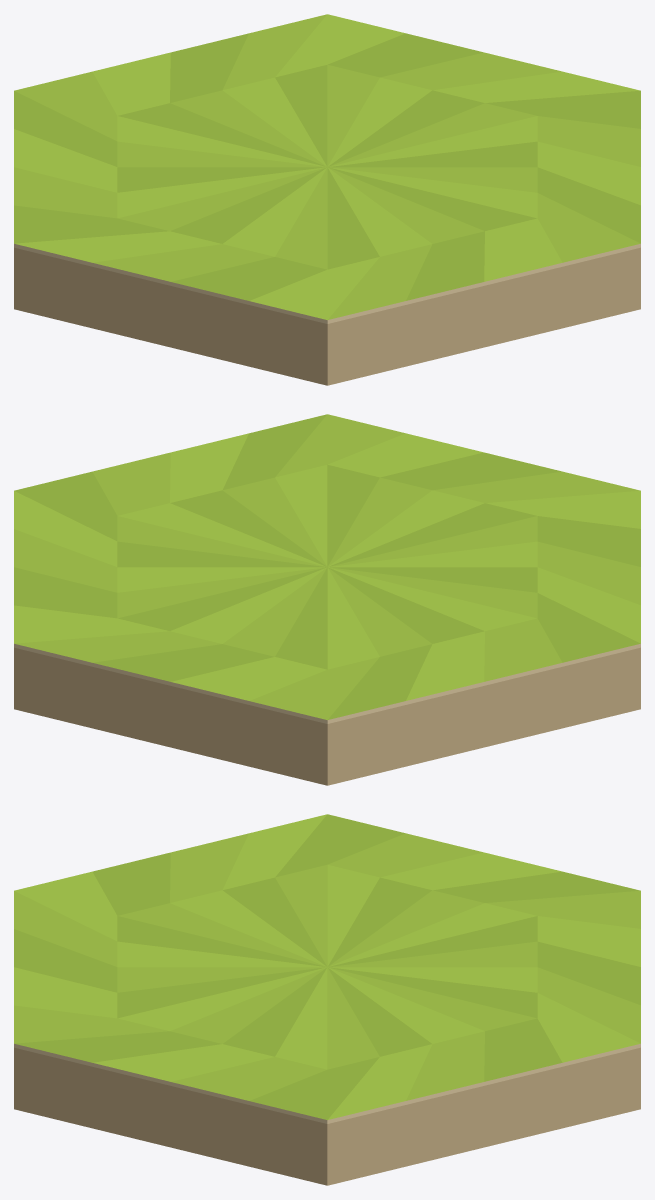
The model's file is terrain.glb.
3 views of the same model, one above another, from view 1: azimuth 30°, elevation 25°; view 2: azimuth 150°, elevation 25°; view 3: azimuth 270°, elevation 25° (orthographic).
Parts seen in each view (by area): view 1: Tile_友谊学院; view 2: Tile_友谊学院; view 3: Tile_友谊学院.
Boxes of the visible parts, <box> form: Tile_友谊学院: <box>14,14,640,385</box>; Tile_友谊学院: <box>14,414,640,785</box>; Tile_友谊学院: <box>14,814,640,1185</box>.
Bounding box in the file's own units: 2 × 0.2 × 1.73.
